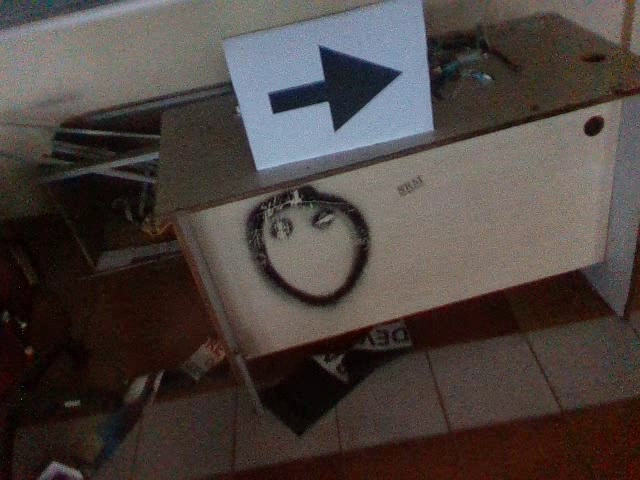Right: (258, 41, 404, 136)
